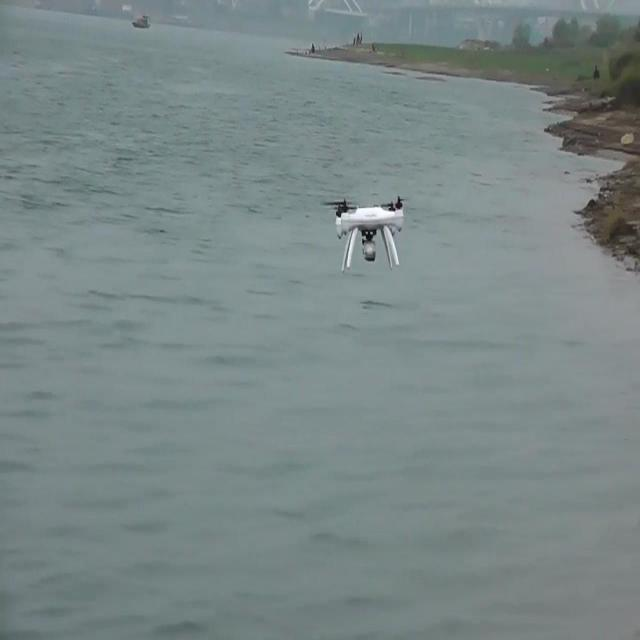UAV: (324, 196, 404, 272)
